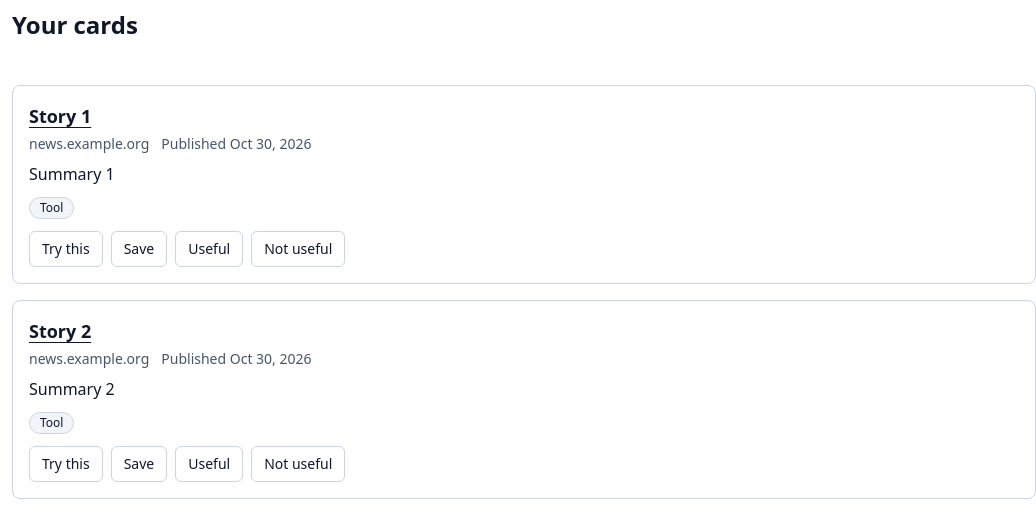
Scenario: what the buttons do › does not show a card as useful when the backend refused
Click the button "Useful" below "Summary 1".
click(209, 249)  # box [175,231,243,267]
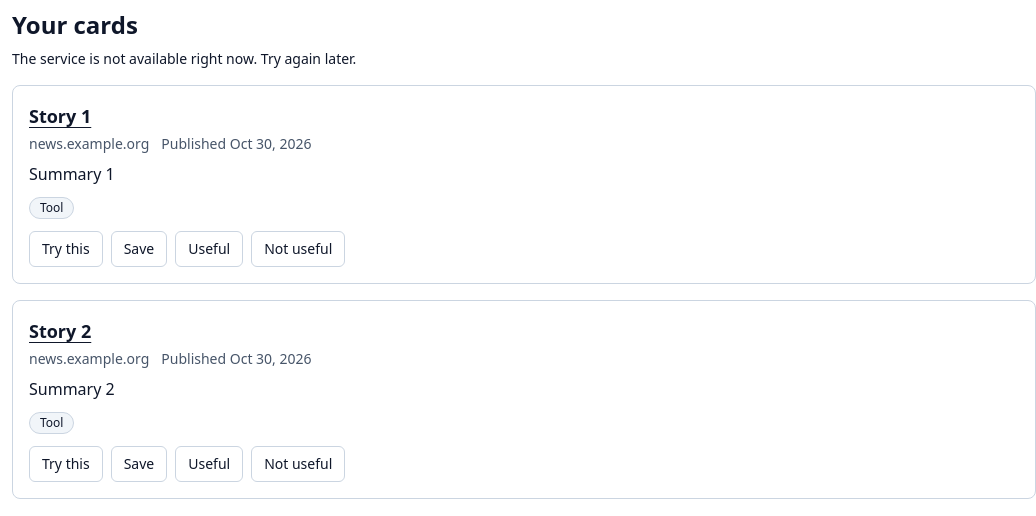
Check: the text "The service is not available right now. Try again later." is shown, box [12,49,356,68]
